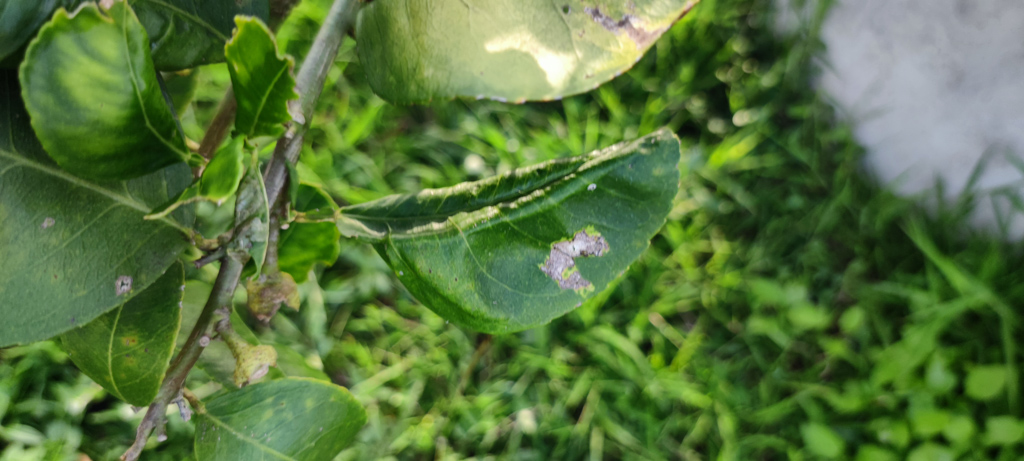Canker: (112, 334, 151, 372)
Leaf Curl Disease: (330, 116, 682, 265)
